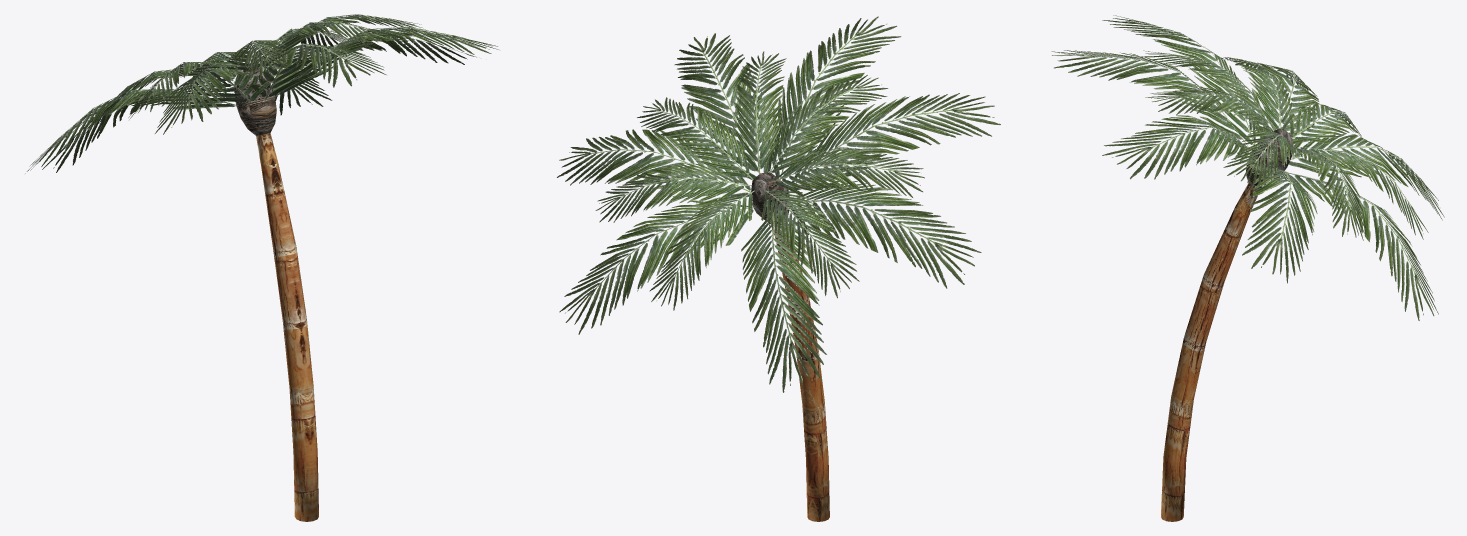
The model's file is PalmTree.obj.
3 renders of one model, left to right at view 1: azimuth 30°, elevation 25°; view 2: azimuth 150°, elevation 25°; view 3: azimuth 270°, elevation 25°, orthographic. The views are drawn at different scales.
Visible parts, largest first — view 1: Leaves, PalmTree, Leaves.001; view 2: Leaves, Leaves.001, PalmTree; view 3: Leaves, Leaves.001, PalmTree.
Part boxes in pixels (x1,y1,x2,y2): Leaves: (25, 26, 498, 173); PalmTree: (234, 65, 318, 521); Leaves.001: (83, 14, 423, 134); Leaves: (557, 16, 1000, 392); Leaves.001: (595, 51, 924, 310); PalmTree: (751, 172, 829, 521); Leaves: (1051, 15, 1444, 320); Leaves.001: (1141, 50, 1428, 240); PalmTree: (1161, 129, 1293, 521).
Size of the model in its own units: 8.7 by 8.88 by 7.16.
Materials: 3 (3 with a texture image).
